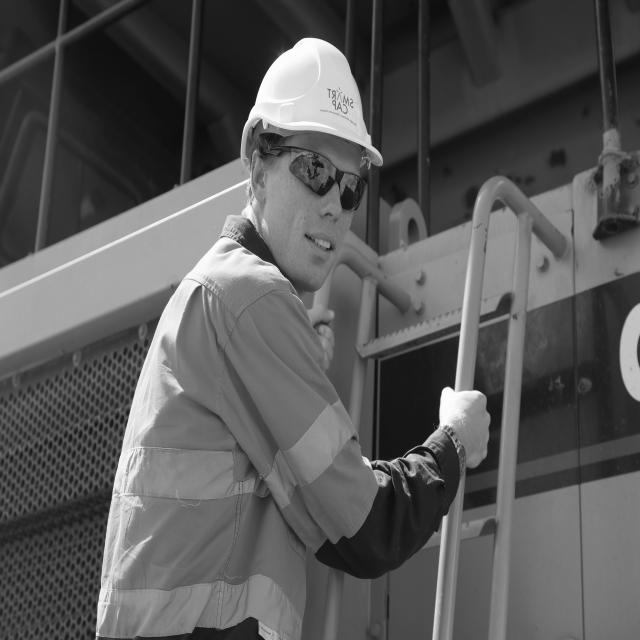face_nomask: (248, 145, 368, 291)
glasses: (287, 144, 368, 219)
hand_noglove: (432, 374, 493, 473)
head_helmet: (235, 35, 387, 153)
person: (89, 18, 490, 640)
vest: (92, 289, 326, 639)
